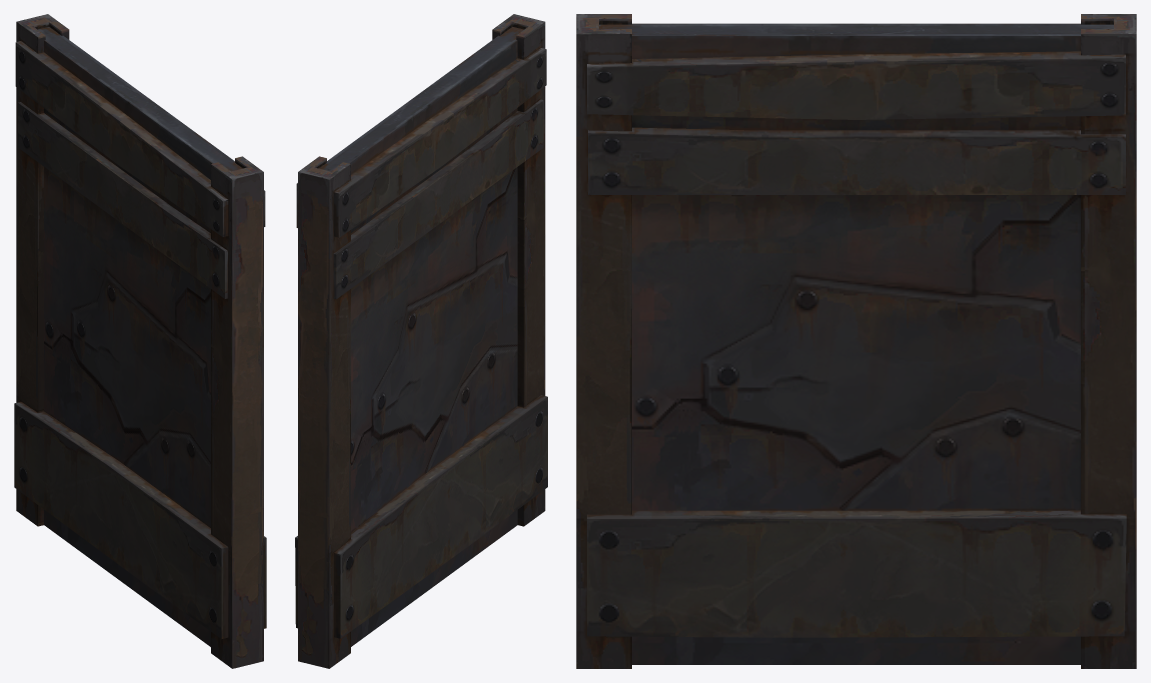
Rendered from Wall03.FBX.
3 views of the same model, side by side, from view 1: azimuth 30°, elevation 25°; view 2: azimuth 150°, elevation 25°; view 3: azimuth 270°, elevation 25° (orthographic). The views are drawn at different scales.
Visible parts, largest first — view 1: Wall03; view 2: Wall03; view 3: Wall03.
Part boxes in pixels (x1,y1,x2,y2): Wall03: (14, 14, 266, 668); Wall03: (295, 14, 547, 668); Wall03: (576, 14, 1136, 668).
Size of the model in its own units: 0.2399 by 2.5 by 2.
Materials: 1 (1 with a texture image).
